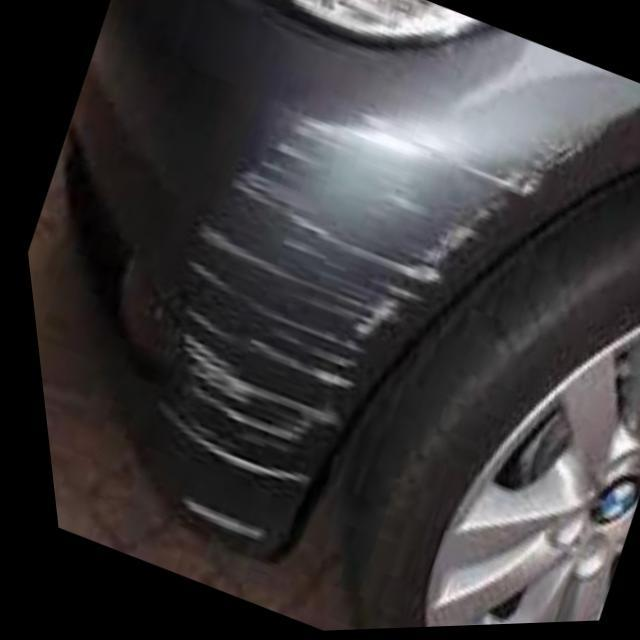rub: (149, 121, 538, 497)
